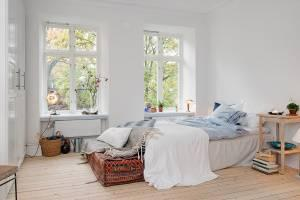window: (39, 18, 196, 112)
